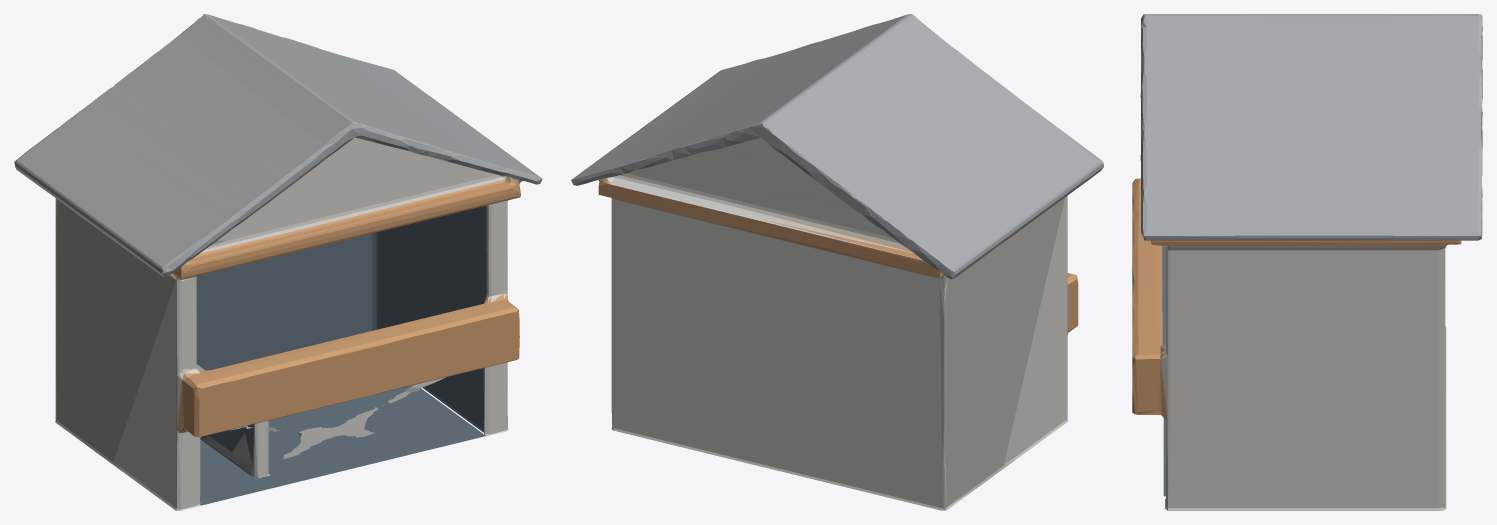
3 views of the same model, side by side, from view 1: azimuth 30°, elevation 25°; view 2: azimuth 150°, elevation 25°; view 3: azimuth 270°, elevation 25° (orthographic). The views are drawn at different scales.
Visible parts, largest first — view 1: geometry_0; view 2: geometry_0; view 3: geometry_0.
Boxes of the visible parts, <box> form: geometry_0: <box>14,14,542,510</box>; geometry_0: <box>571,14,1103,510</box>; geometry_0: <box>1132,14,1482,510</box>.
Size of the model in its own units: 1 by 0.8931 by 0.7015.
